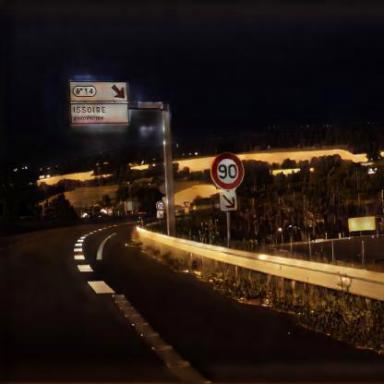Speed_limit_90: (211, 153, 244, 192)
